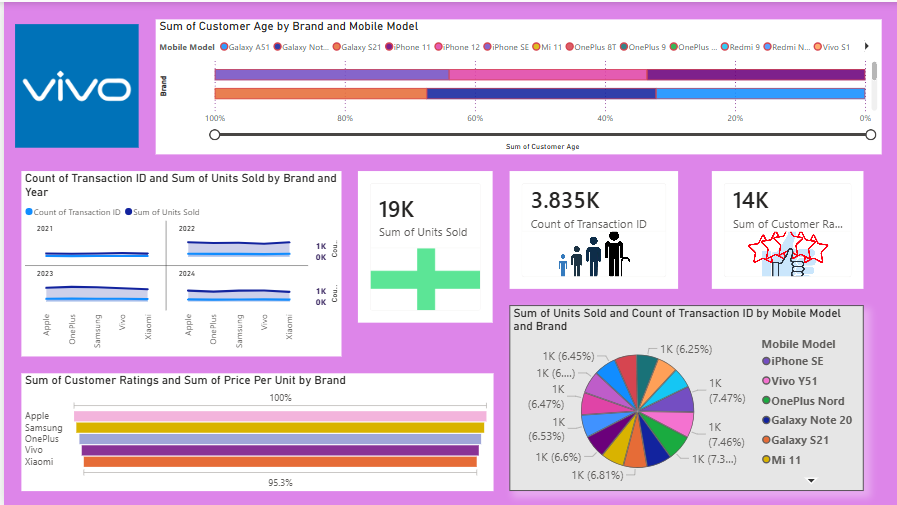

What the dashboard file says about the page in this screenshot:
{"tool":"powerbi","page":{"name":"Page 2","canvas":[1280,720],"ordinal":1},"visuals":[{"type":"hundredPercentStackedBarChart","fields":{"Category":["Sheet1.Brand"],"Y":["Sum(Sheet1.Customer Age)"],"Series":["Sheet1.Mobile Model"]},"box":[216,24,1032,192],"z":0},{"type":"lineChart","fields":{"Category":["Sheet1.Brand"],"Y":["CountNonNull(Sheet1.Transaction ID)","Sum(Sheet1.Units Sold)"],"Rows":["Sheet1.Year"]},"box":[24,240,456,264],"z":1000},{"type":"funnel","fields":{"Y":["Sum(Sheet1.Customer Ratings)"],"Category":["Sheet1.Brand","Sheet1.Mobile Model"]},"box":[24,528,672,168],"z":2000},{"type":"pieChart","fields":{"Category":["Sheet1.Mobile Model"],"Series":["Sheet1.Brand"],"Y":["Sum(Sheet1.Units Sold)"]},"box":[720,432,504,264],"z":3000},{"type":"cardVisual","fields":{"Data":["CountNonNull(Sheet1.Transaction ID)"]},"box":[720,240,240,168],"z":5000},{"type":"cardVisual","fields":{"Data":["Sum(Sheet1.Customer Ratings)"]},"box":[1008,240,216,168],"z":6000},{"type":"cardVisual","fields":{"Data":["Sum(Sheet1.Units Sold)"]},"box":[504,240,192,216],"z":7000},{"type":"image","box":[16,32,176,176],"z":7001}]}

Visuals, with their boxes in screenshot pixels (x1, y1, x2, y2), scaled from the page's 1280x720 canvas onto the 897x505 screenshot:
hundredPercentStackedBarChart - Sheet1.Brand x Sum(Sheet1.Customer Age): 151 17 875 152
lineChart - Sheet1.Brand x CountNonNull(Sheet1.Transaction ID): 17 168 336 354
funnel - Sum(Sheet1.Customer Ratings) x Sheet1.Brand: 17 370 488 488
pieChart - Sheet1.Mobile Model x Sheet1.Brand: 505 303 858 488
cardVisual - CountNonNull(Sheet1.Transaction ID): 505 168 673 286
cardVisual - Sum(Sheet1.Customer Ratings): 706 168 858 286
cardVisual - Sum(Sheet1.Units Sold): 353 168 488 320
image: 11 22 135 146
